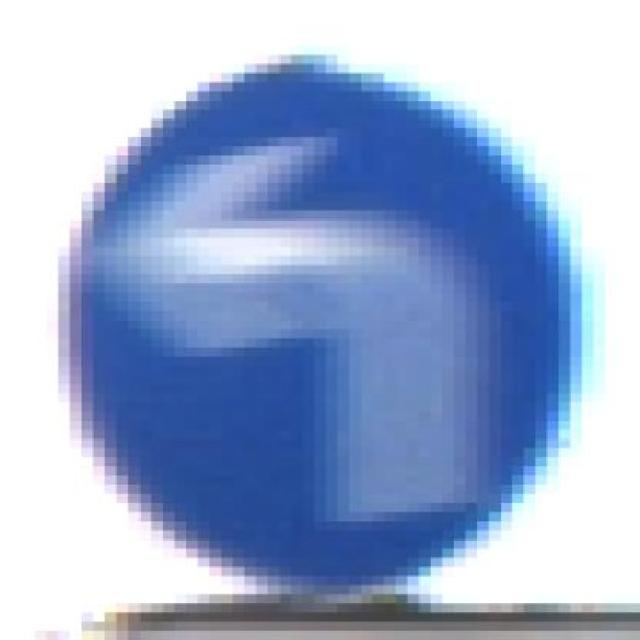Turn left ahead: (58, 55, 570, 594)
